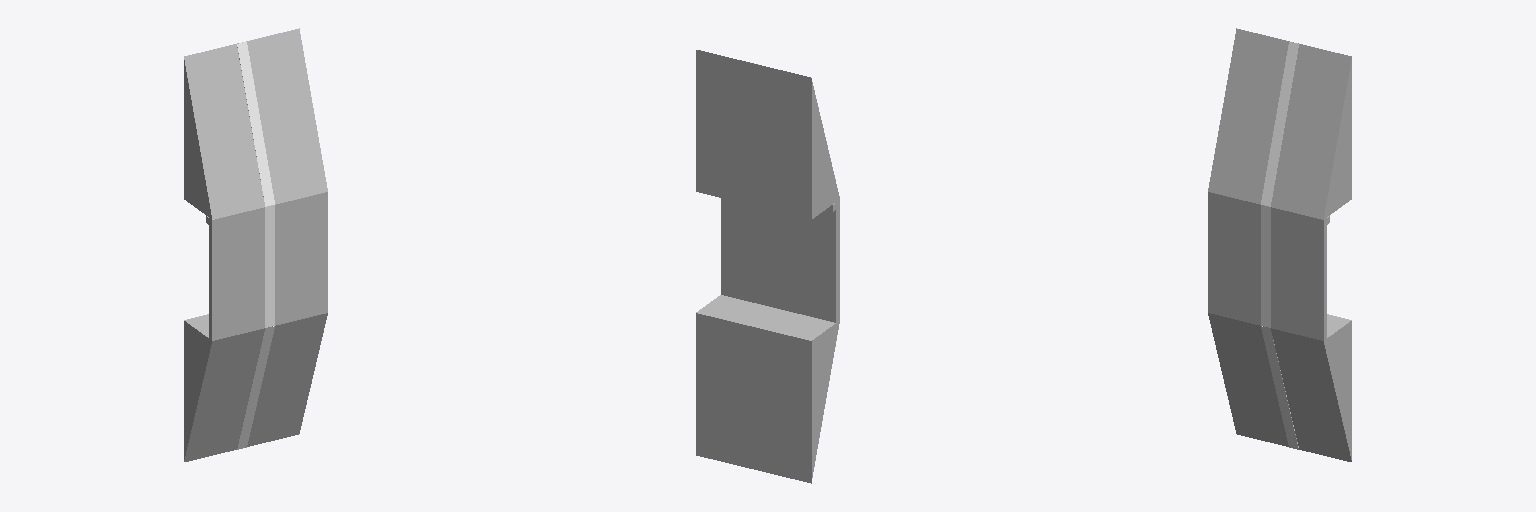
The model's file is bridge.obj.
The picture shows the model from 3 angles: view 1: azimuth 30°, elevation 25°; view 2: azimuth 150°, elevation 25°; view 3: azimuth 330°, elevation 25°; orthographic projection.
Parts seen in each view (by area): view 1: obj_0; view 2: obj_0; view 3: obj_0.
Part boxes in pixels (left/top/right/bottom): obj_0: left=184, top=28, right=327, bottom=461; obj_0: left=696, top=50, right=839, bottom=483; obj_0: left=1208, top=28, right=1351, bottom=461.
Size of the model in its own units: 35 by 117 by 15.02.